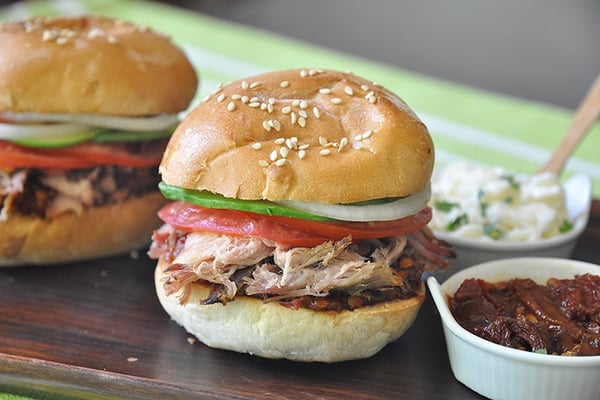soup: (147, 67, 457, 362), (0, 12, 201, 264)
sushi: (425, 257, 600, 398), (429, 165, 593, 259)
